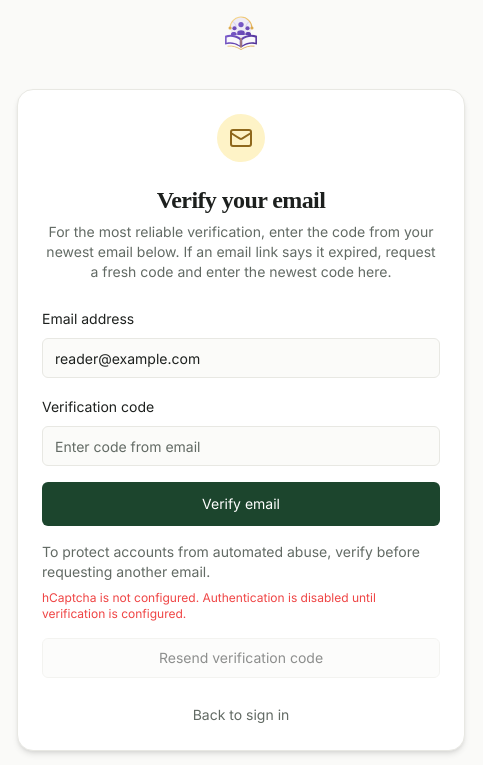
Test: ConfirmEmail verification flow › validates the email code before calling Supabase
Type "123" into the field labelled "Verification code" at (241, 446), box [42,426,440,466]
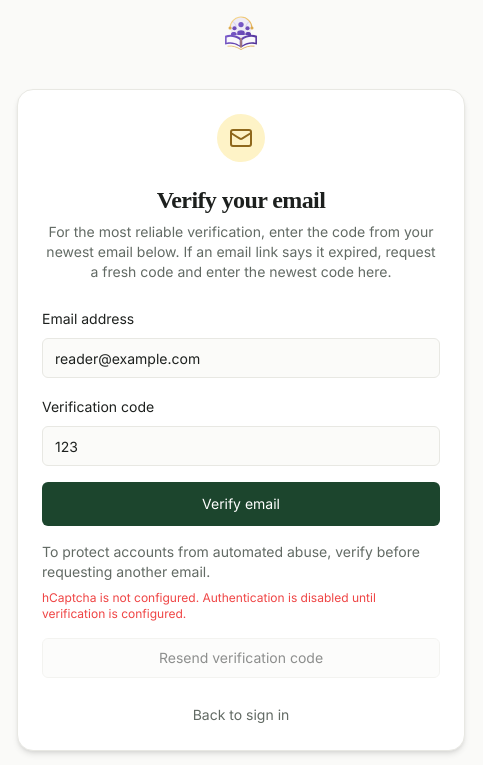
Submit the form "Email address Verification code Verify email", box [42,306,440,526]
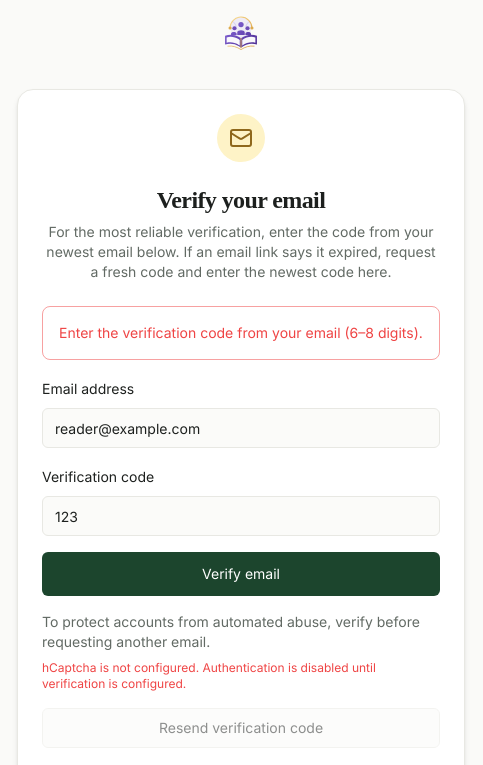
Now the text "Enter the verification code from your email (6–8 digits)." is shown, box [59,323,423,343]
